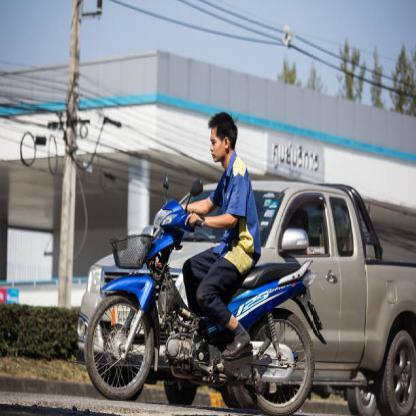Motorcycle: (76, 185, 328, 415)
